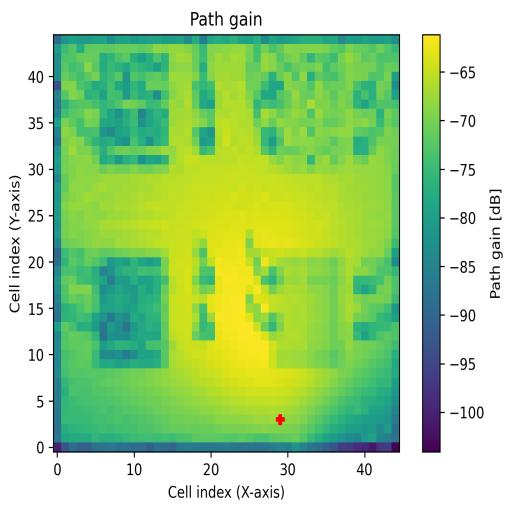Concrete: (268, 55, 368, 163)
Glass: (100, 53, 168, 166)
Metal: (267, 258, 346, 369)
Wood: (93, 257, 169, 371)
